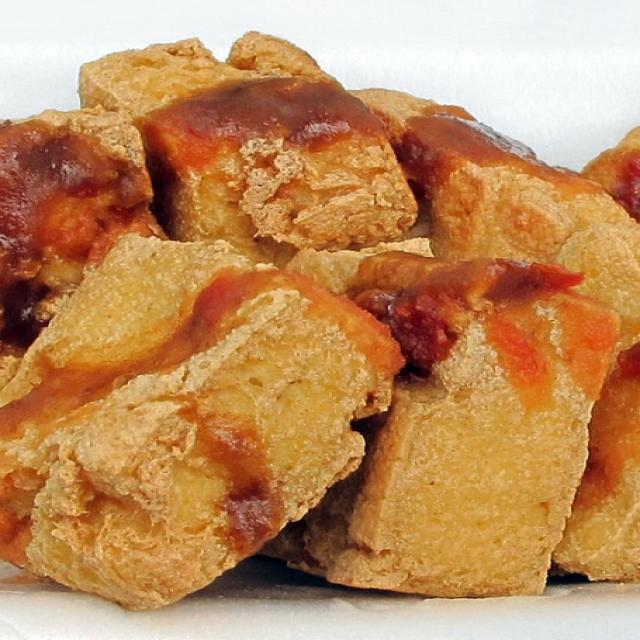豆腐料理: (15, 45, 618, 608)
